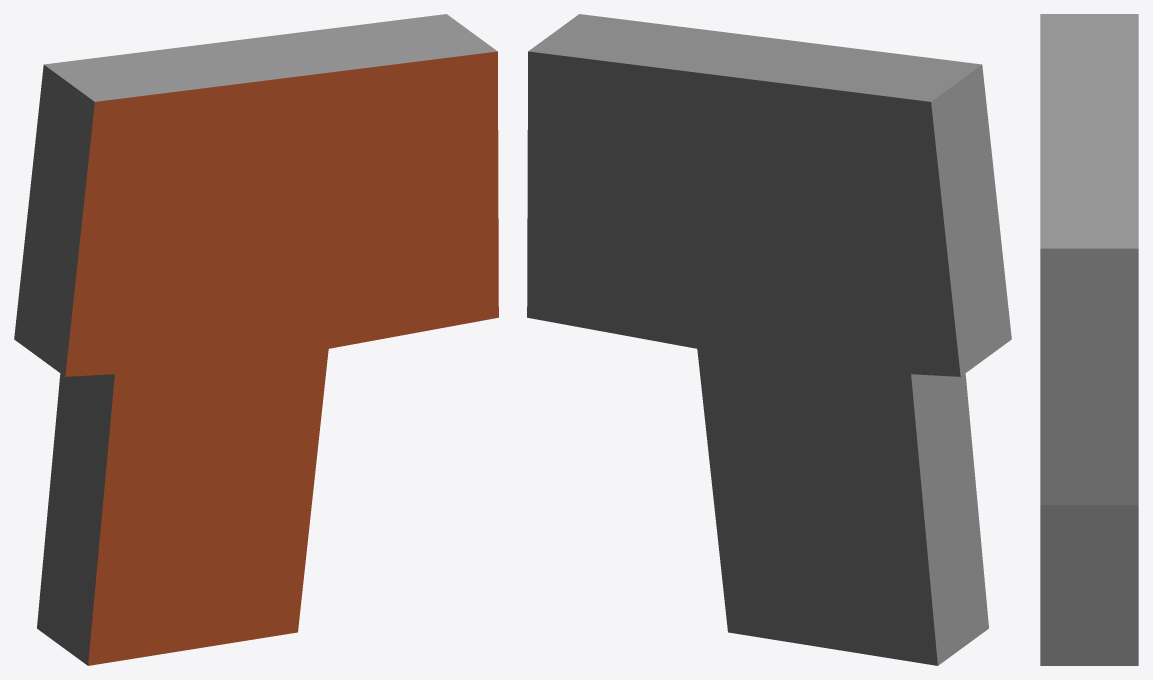
Rendered from construction_1135_assumed_A_Casa_h6m.obj.
3 views of the same model, side by side, from view 1: azimuth 30°, elevation 25°; view 2: azimuth 150°, elevation 25°; view 3: azimuth 270°, elevation 25° (orthographic). The views are drawn at different scales.
Parts seen in each view (by area): view 1: construction_1135_assumed_A_Casa; view 2: construction_1135_assumed_A_Casa; view 3: construction_1135_assumed_A_Casa.
Boxes of the visible parts, <box> form: construction_1135_assumed_A_Casa: <box>14,14,498,665</box>; construction_1135_assumed_A_Casa: <box>527,14,1011,665</box>; construction_1135_assumed_A_Casa: <box>1040,14,1138,665</box>.
Size of the model in its own units: 29.33 by 37.5 by 6.
